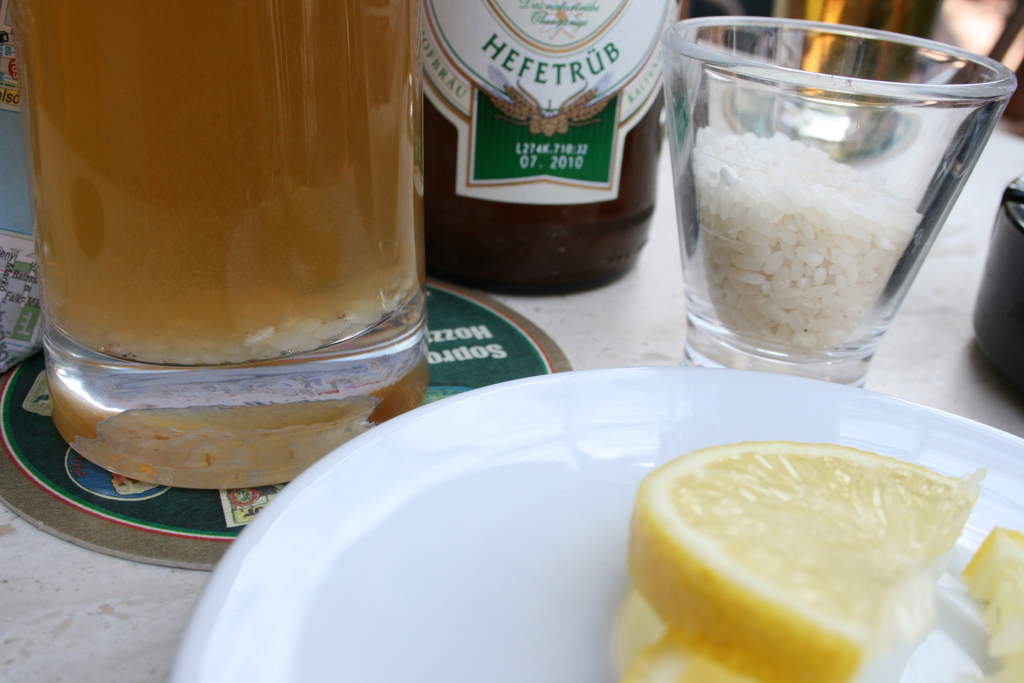Beer: (32, 0, 426, 433), (414, 0, 689, 317)
